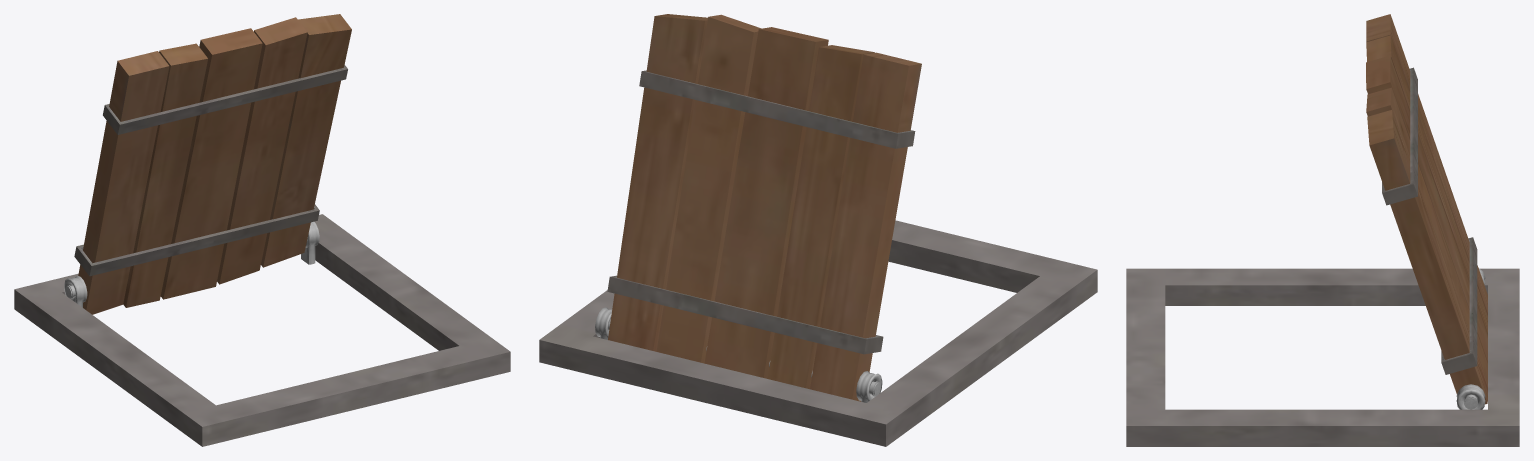
The model's file is trapdoor.glb.
3 views of the same model, side by side, from view 1: azimuth 30°, elevation 25°; view 2: azimuth 150°, elevation 25°; view 3: azimuth 270°, elevation 25° (orthographic). The views are drawn at different scales.
Visible parts, largest first — view 1: Giantplankboi, pCube8; view 2: Giantplankboi, pCube8; view 3: pCube8, Giantplankboi, pTorus3.
Part boxes in pixels (x1=…): Giantplankboi: x1=65, y1=14, x2=351, y2=314; pCube8: x1=14, y1=214, x2=510, y2=446; Giantplankboi: x1=607, y1=14, x2=921, y2=401; pCube8: x1=539, y1=220, x2=1097, y2=446; pCube8: x1=1126, y1=268, x2=1519, y2=446; Giantplankboi: x1=1366, y1=14, x2=1487, y2=409; pTorus3: x1=1456, y1=384, x2=1485, y2=409.
Bounding box in the file's own units: 2.74 × 2.44 × 2.89.
Materials: 1 (1 with a texture image).
